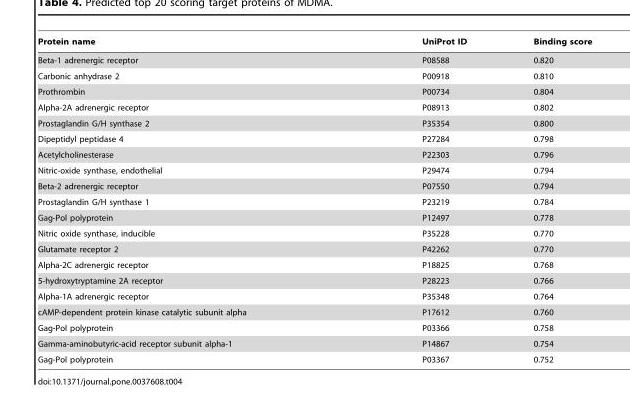table: (37, 36, 591, 363)
table column: (37, 36, 333, 363), (333, 36, 499, 363), (499, 36, 591, 363)
table column header: (37, 36, 591, 50)
table row: (37, 50, 591, 68), (37, 83, 591, 99), (37, 99, 591, 115), (37, 130, 591, 146), (37, 146, 591, 162), (37, 162, 591, 178), (37, 193, 591, 209), (37, 209, 591, 225), (37, 225, 591, 241), (37, 256, 591, 272), (37, 272, 591, 288), (37, 288, 591, 304), (37, 319, 591, 335), (37, 335, 591, 351), (37, 68, 591, 83), (37, 115, 591, 130), (37, 178, 591, 193), (37, 241, 591, 256), (37, 304, 591, 319), (37, 36, 591, 50), (37, 351, 591, 363)
